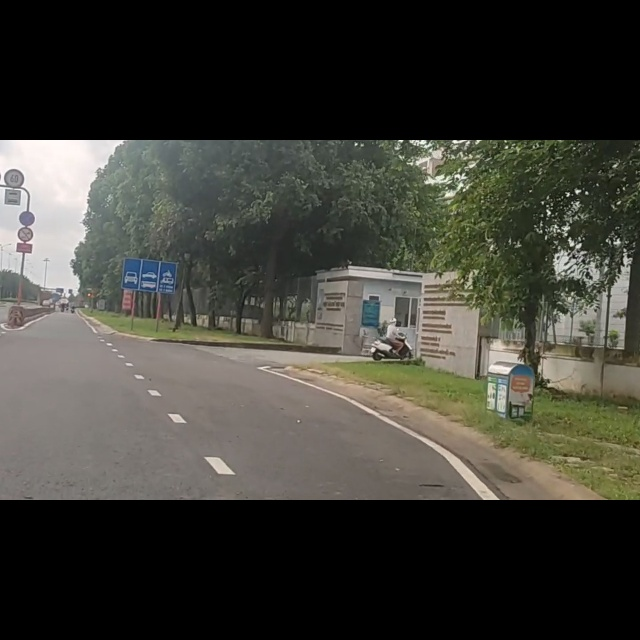bien_chi_dan: (120, 207, 178, 273)
